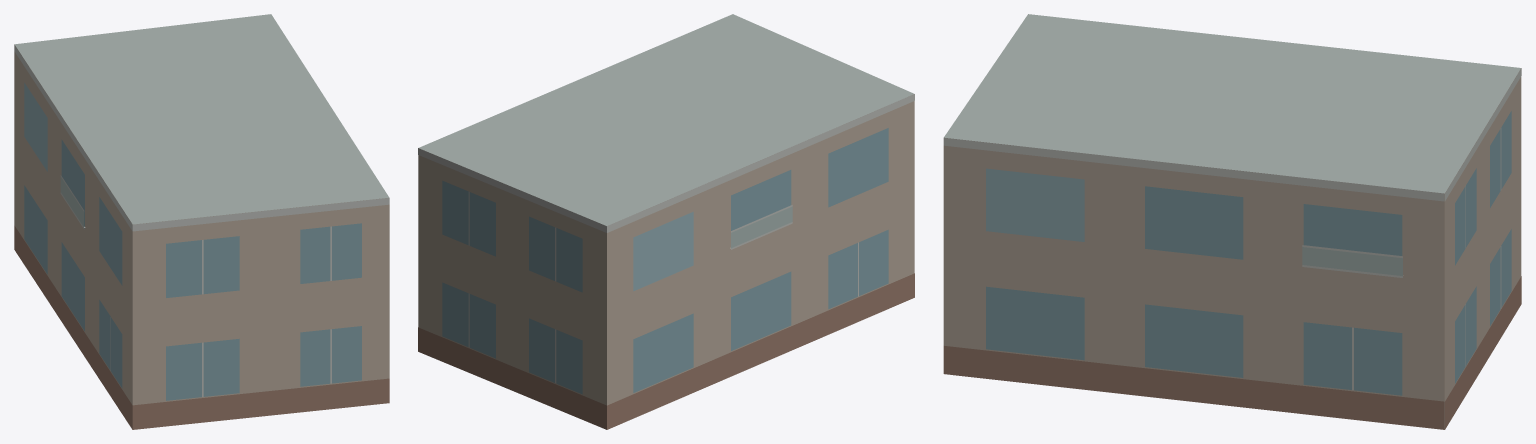
The model's file is survey-upis-32753260.glb.
The picture shows the model from 3 angles, left to right: view 1: azimuth 30°, elevation 25°; view 2: azimuth 150°, elevation 25°; view 3: azimuth 270°, elevation 25°; orthographic projection. The views are drawn at different scales.
Visible parts, largest first — view 1: survey-upis-32753260.tmp; view 2: survey-upis-32753260.tmp; view 3: survey-upis-32753260.tmp.
Part boxes in pixels (<box>): survey-upis-32753260.tmp: <box>14,14,389,429</box>; survey-upis-32753260.tmp: <box>418,14,914,429</box>; survey-upis-32753260.tmp: <box>943,14,1521,429</box>.
Bounding box in the file's own units: 11.74 × 7.2 × 15.96.
